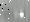person: (20, 10, 25, 19)
